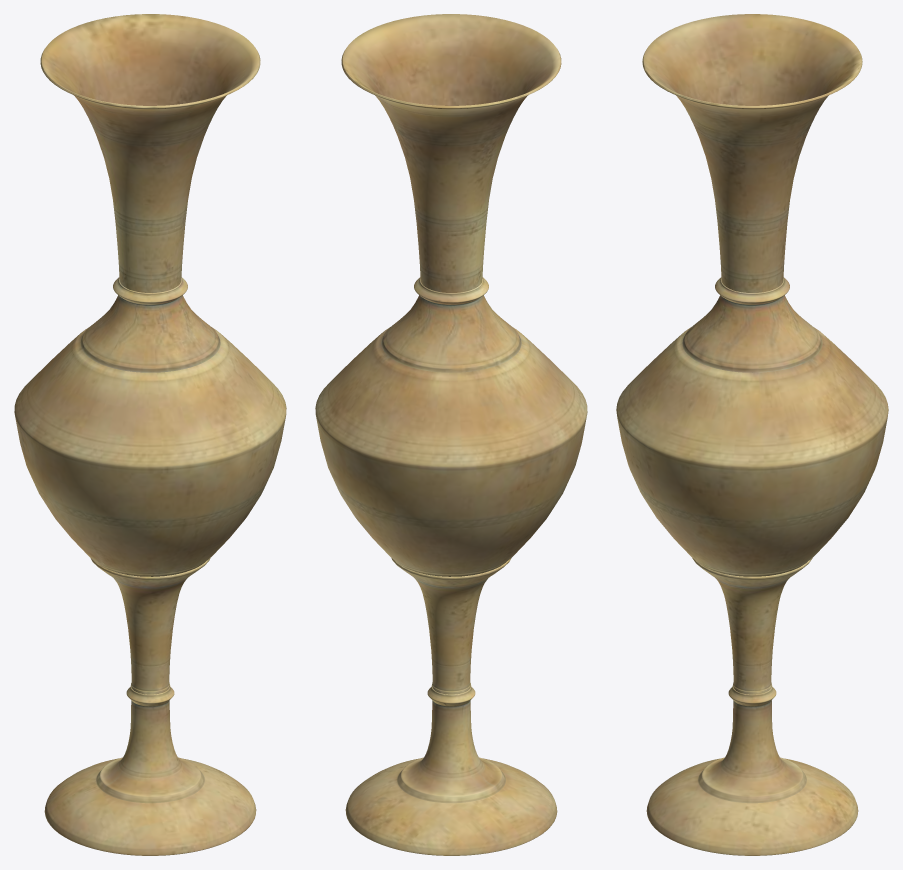
Rendered from vase-brass-01.552852be.glb.
The picture shows the model from 3 angles, left to right: view 1: azimuth 30°, elevation 25°; view 2: azimuth 150°, elevation 25°; view 3: azimuth 270°, elevation 25°; orthographic projection.
Parts seen in each view (by area): view 1: model; view 2: model; view 3: model.
Part boxes in pixels (x1,y1,x2,y2): model: (14, 14, 286, 855); model: (315, 14, 587, 855); model: (616, 14, 888, 855).
Bounding box in the file's own units: 0.2273 × 0.6925 × 0.2273.
Materials: 1 (1 with a texture image).
